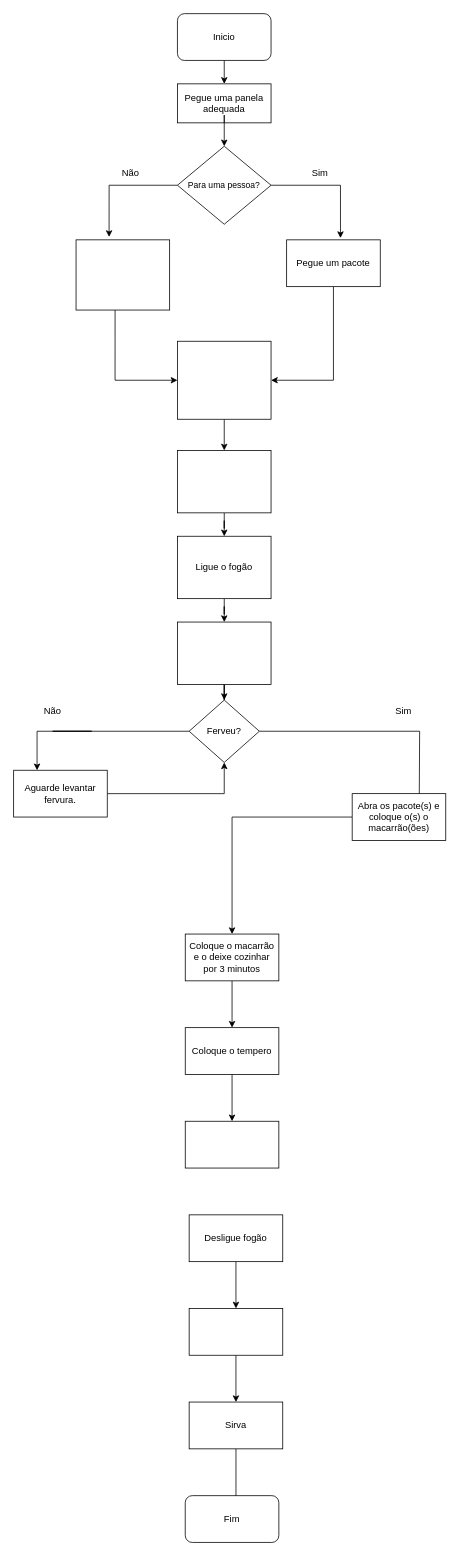
This 459x1556 diagram has some shape labels left out. The centre of each missing label's shape, as x and y in pixels:
"Coloque a panela com a água para ferver no fogão com a boca acesa ." goes at [224,652].
"Emprate" goes at [235,1331].
"Encha a panela com a água" goes at [224,481].
"Mexa o macarrão para misturar bem o tempero" goes at [231,1144].
"Pegue a quantidade de pacotes igual ao número de pessoas" goes at [122,274].
"Separe a porção de água" goes at [224,379].
